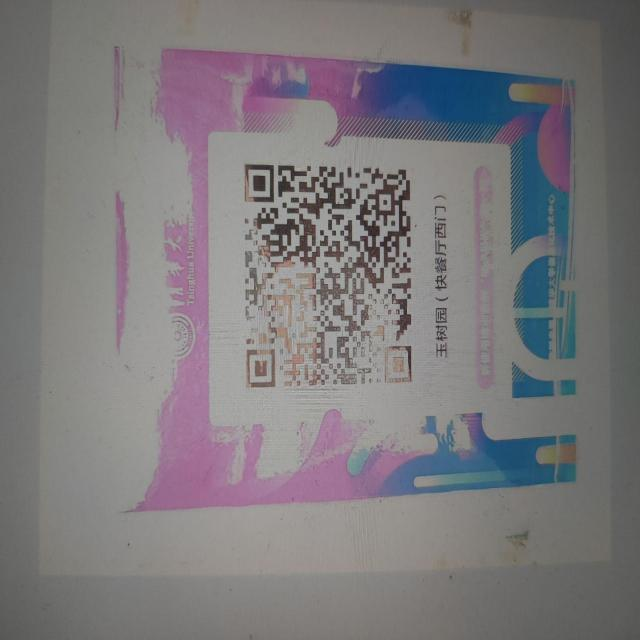qr_code: (245, 165, 412, 388)
